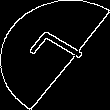L_SE: (21, 28, 89, 82)
